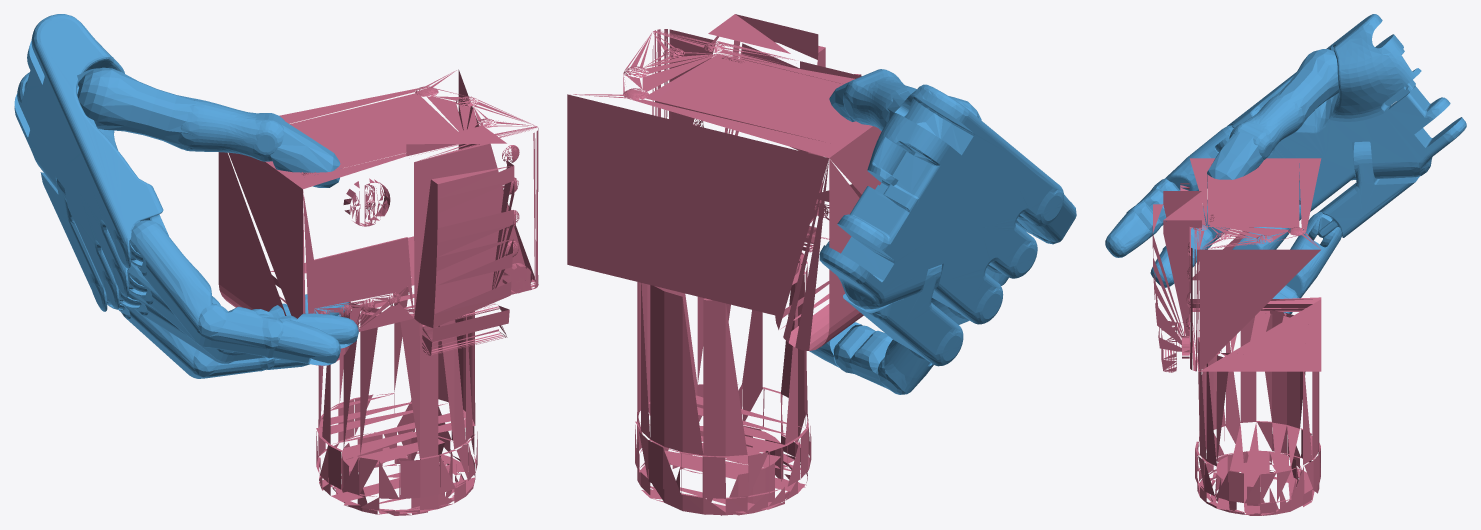
3 views of the same model, side by side, from view 1: azimuth 30°, elevation 25°; view 2: azimuth 150°, elevation 25°; view 3: azimuth 270°, elevation 25° (orthographic). The views are drawn at different scales.
Visible parts, largest first — view 1: 6; view 2: 6; view 3: 6.
Part boxes in pixels (box(x1,y1,x2,y2)): 6: box(14, 14, 538, 515); 6: box(567, 14, 1076, 515); 6: box(1105, 14, 1466, 515).
Bounding box in the file's own units: 0.1894 × 0.2218 × 0.1921.
